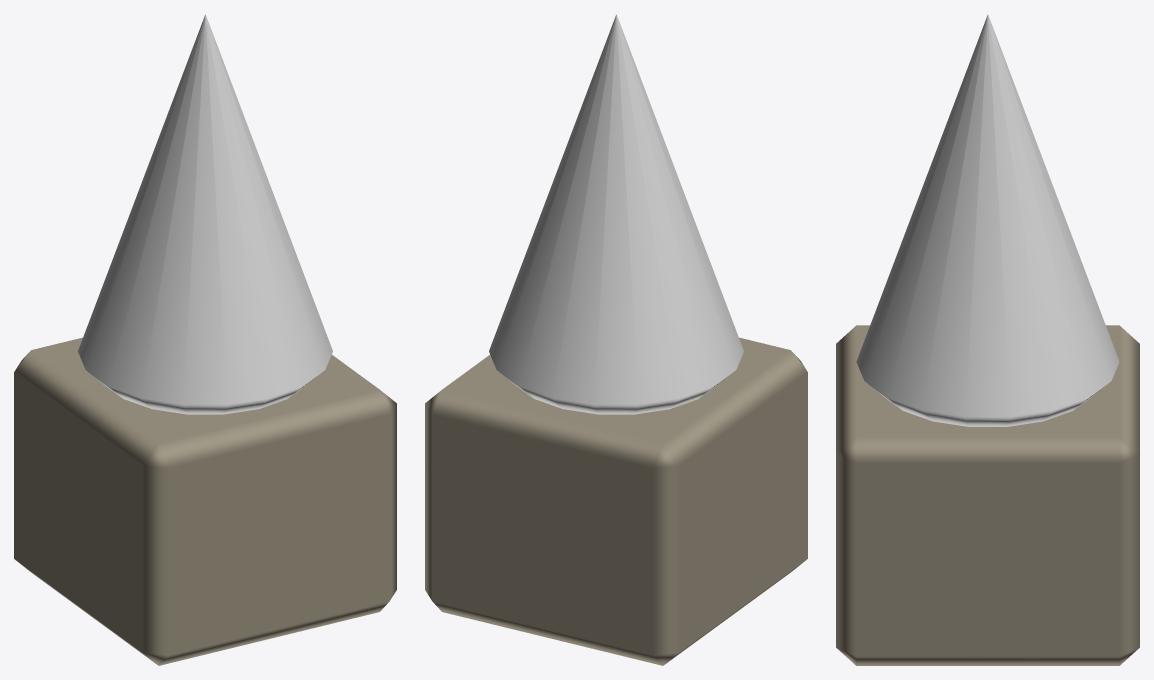
Rendered from stone-halls-pinnacle.9223b477.glb.
The picture shows the model from 3 angles, left to right: view 1: azimuth 30°, elevation 25°; view 2: azimuth 150°, elevation 25°; view 3: azimuth 270°, elevation 25°; orthographic projection. The views are drawn at different scales.
Visible parts, largest first — view 1: body; view 2: body; view 3: body.
Boxes of the visible parts, bbox=[...] form: body: bbox=[14, 14, 396, 665]; body: bbox=[425, 14, 807, 665]; body: bbox=[836, 14, 1139, 665].
Bounding box in the file's own units: 0.3 × 0.65 × 0.3.
